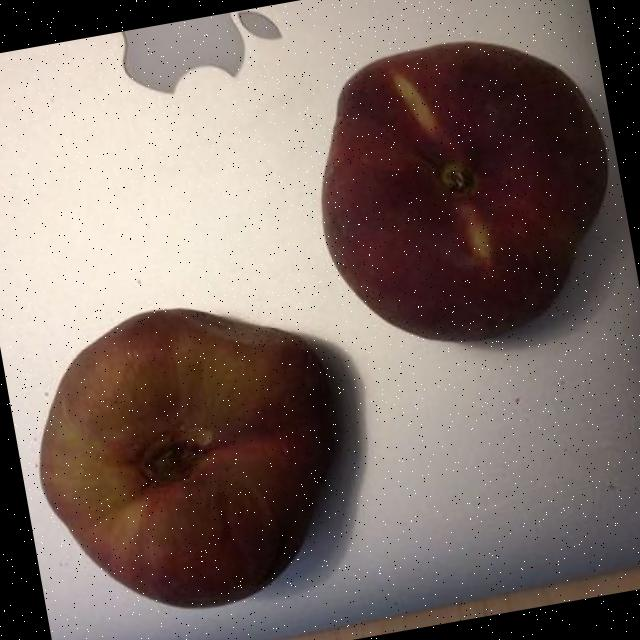peach: (48, 302, 367, 625), (321, 36, 596, 336)
